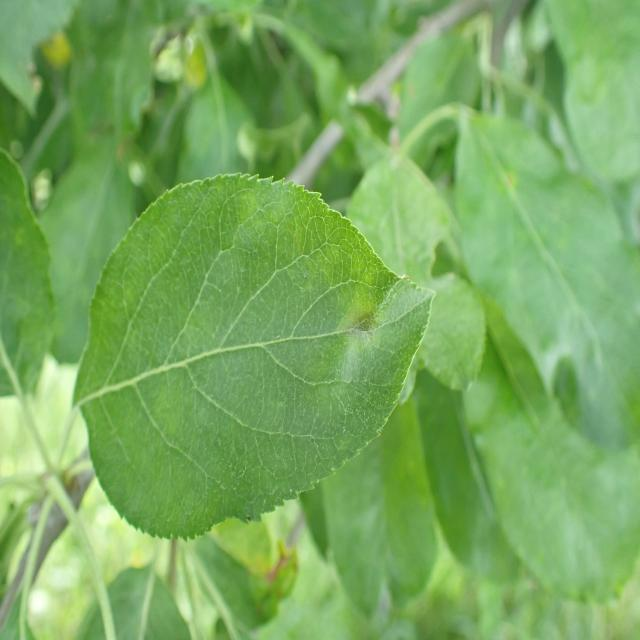scab: (90, 202, 423, 487)
